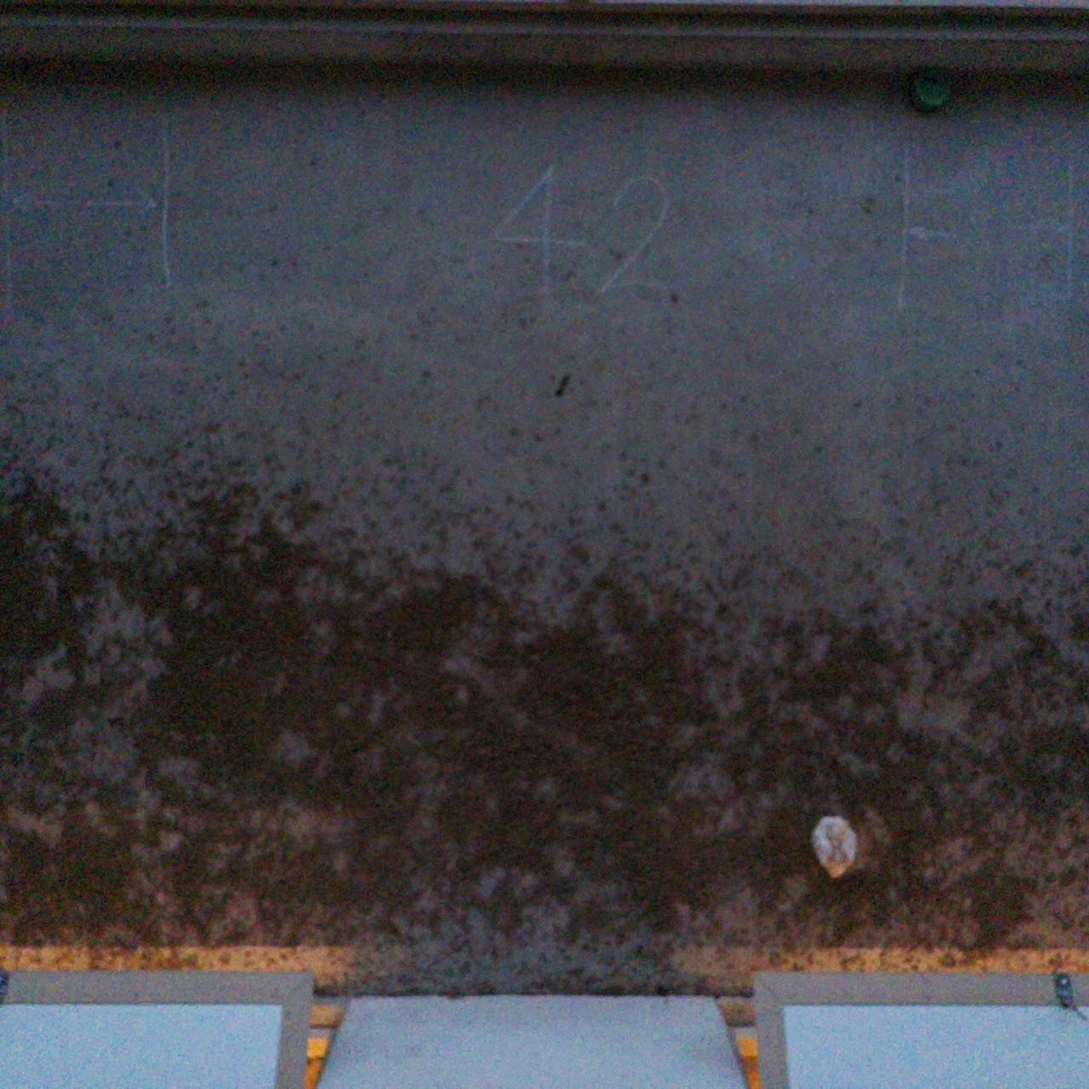chicken: (804, 808, 863, 882)
